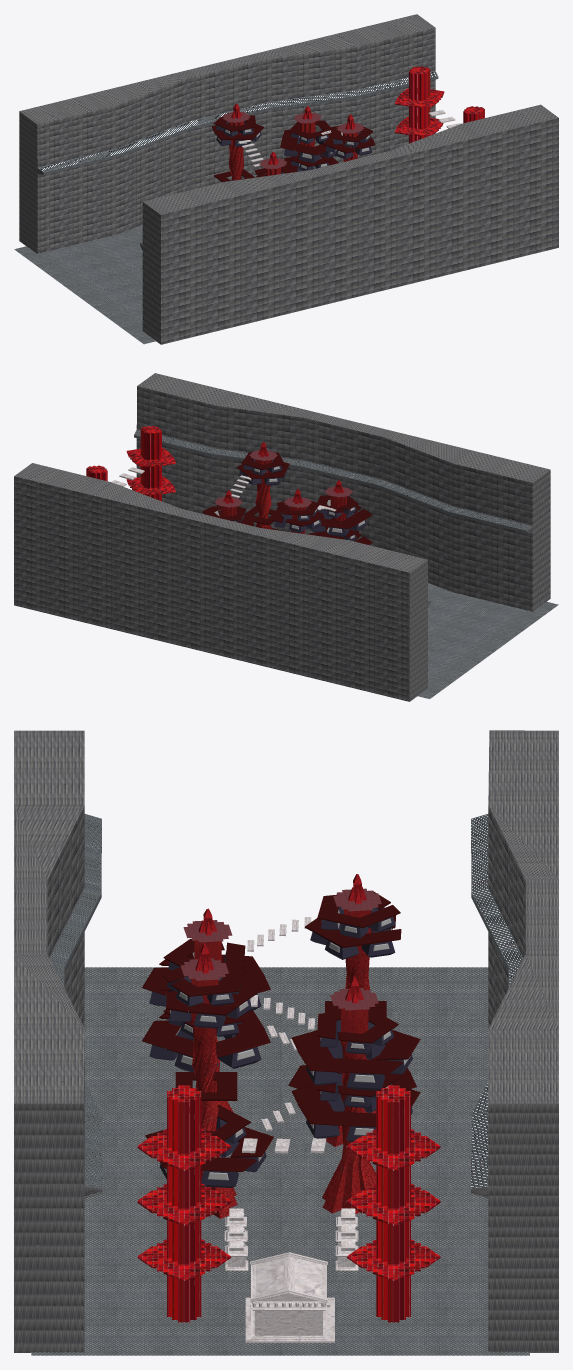
Rendered from for deeyi.fbx.
3 renders of one model, top to bottom at view 1: azimuth 30°, elevation 25°; view 2: azimuth 150°, elevation 25°; view 3: azimuth 270°, elevation 25°, orthographic. The views are drawn at different scales.
Parts seen in each view (by area): view 1: pCube158, pCube157, pPlane1, pCube177, pCube103 (×2), pCube190; view 2: pCube157, pCube158, pPlane1, pCube92, pCube103, pCube189, pCube190; view 3: pPlane1, pCube158, pCube157, pCube177, pCube92, pCylinder158, pCube103 (×2), pCube190, pCube189, pCube178, pCube149, pCube128 (+11 smaller).
Part boxes in pixels (box(x1,y1,x2,y2)): pCube158: box(140, 104, 558, 344); pCube157: box(19, 14, 438, 253); pPlane1: box(14, 225, 155, 344); pCube177: box(394, 66, 444, 143); pCube103 (×2): box(222, 103, 364, 180); pCube190: box(293, 106, 321, 170); pCube157: box(14, 463, 430, 701); pCube158: box(134, 373, 550, 611); pPlane1: box(417, 583, 558, 698); pCube92: box(126, 425, 175, 501); pCube103: box(249, 442, 277, 529); pCube189: box(324, 480, 352, 520); pCube190: box(214, 490, 242, 516); pPlane1: box(31, 967, 529, 1355); pCube158: box(14, 730, 101, 1352); pCube157: box(471, 730, 558, 1352); pCube177: box(346, 1085, 440, 1322); pCube92: box(137, 1085, 231, 1322); pCylinder158: box(245, 1252, 334, 1342); pCube103 (×2): box(180, 874, 381, 1218); pCube190: box(322, 977, 378, 1214); pCube189: box(183, 908, 232, 1111); pCube178: box(334, 1058, 402, 1090); pCube149: box(216, 1029, 270, 1068); pCube128: box(201, 1157, 256, 1187).
Size of the model in its own units: 1635 by 511 by 970.
